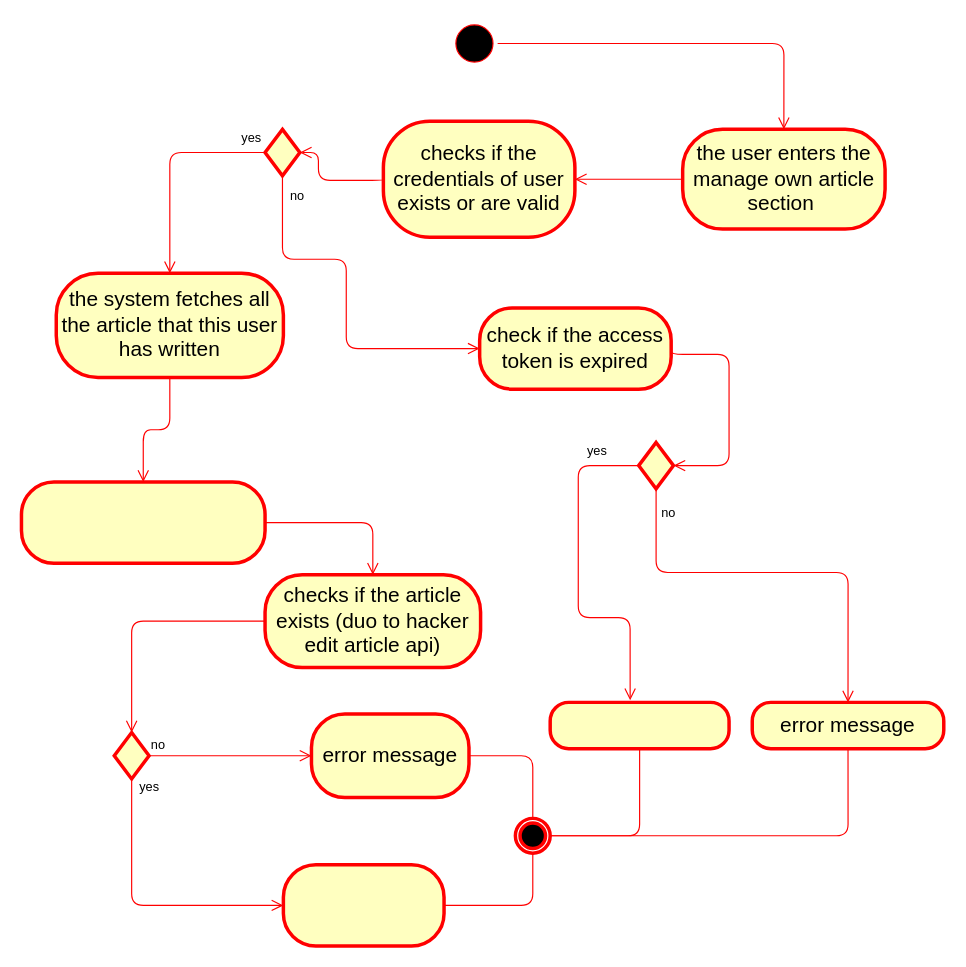
This 966x967 diagram has some shape labels left out. The shapes that lost their labels are listed below. From the top down, each one's centre as x and y in pixels, then its label:
At point 142,522: "user clicks on the article that wants to be deleted".
At point 639,725: "need refresh".
At point 363,904: "successful message".
